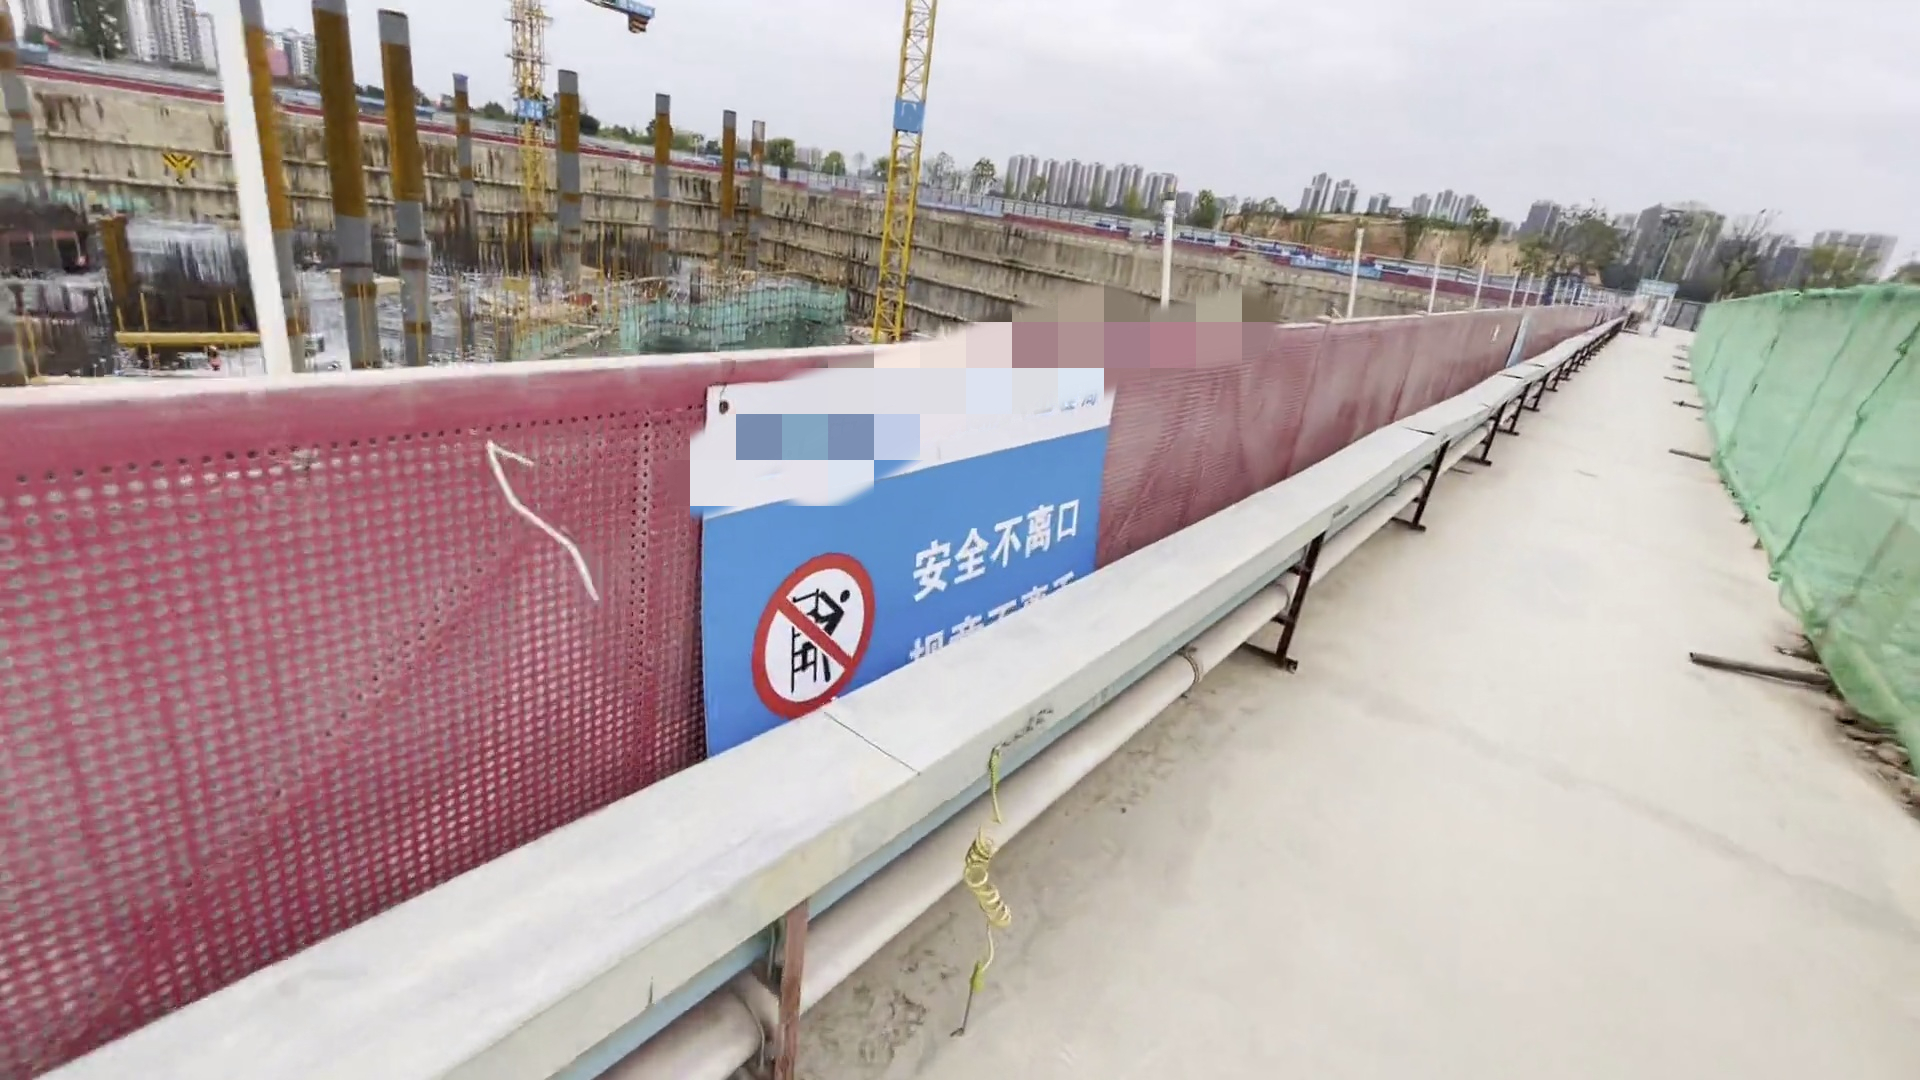fence: (96, 266, 1597, 938)
hook: (138, 131, 225, 200)
slogan: (723, 353, 1112, 684), (1278, 236, 1423, 339)
